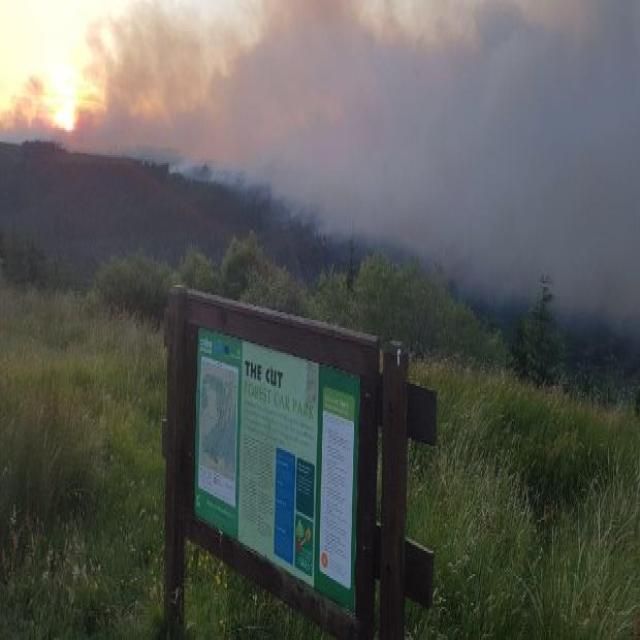Smoke: (72, 0, 640, 309)
